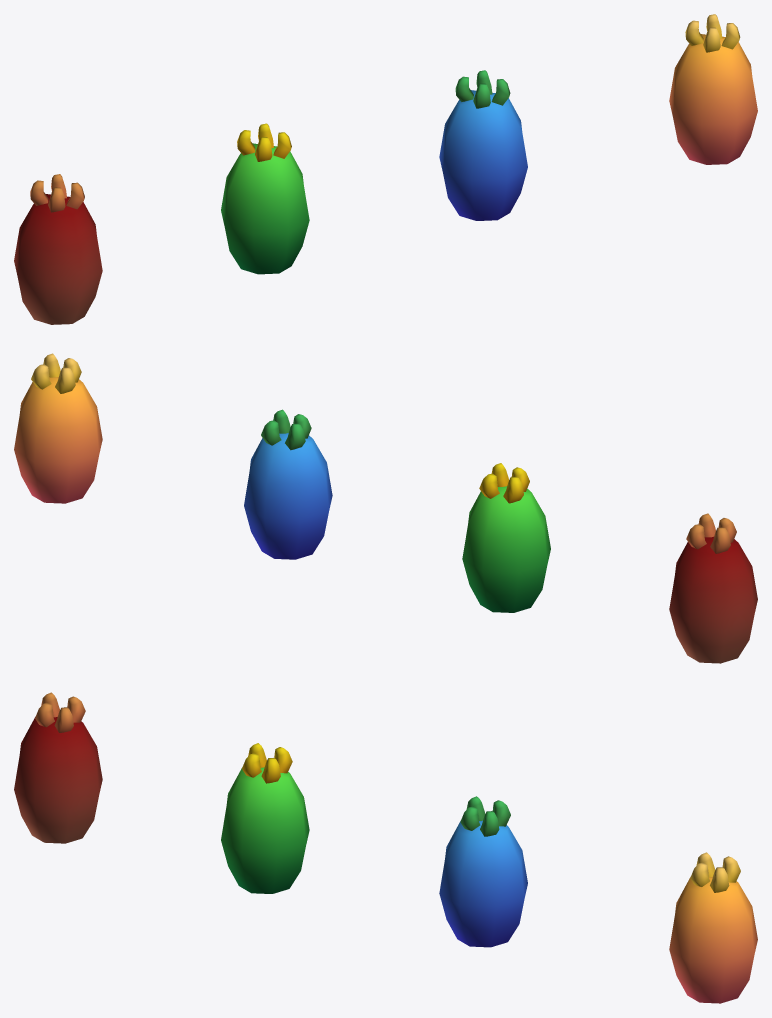
The model's file is Reef_Set4.glb.
3 renders of one model, top to bottom at view 1: azimuth 30°, elevation 25°; view 2: azimuth 150°, elevation 25°; view 3: azimuth 330°, elevation 25°, orthographic.
Visible parts, largest first — view 1: D_CoralReef, D_CoralReef.001, D_CoralReef.003, D_CoralReef.002; view 2: D_CoralReef, D_CoralReef.002, D_CoralReef.003, D_CoralReef.001; view 3: D_CoralReef.003, D_CoralReef, D_CoralReef.002, D_CoralReef.001.
Boxes of the visible parts, box(x1,y1,x2,y2) form: D_CoralReef: box(14, 174, 102, 324); D_CoralReef.001: box(221, 123, 309, 274); D_CoralReef.003: box(669, 14, 757, 164); D_CoralReef.002: box(439, 70, 527, 220); D_CoralReef: box(669, 513, 757, 663); D_CoralReef.002: box(244, 409, 332, 559); D_CoralReef.003: box(14, 353, 102, 503); D_CoralReef.001: box(462, 463, 550, 612); D_CoralReef.003: box(669, 852, 757, 1003); D_CoralReef: box(14, 692, 102, 843); D_CoralReef.002: box(439, 796, 527, 947); D_CoralReef.001: box(221, 743, 309, 893).
Bounding box in the file's own units: 6.41 × 1.09 × 0.7101.
Materials: 1 (1 with a texture image).
